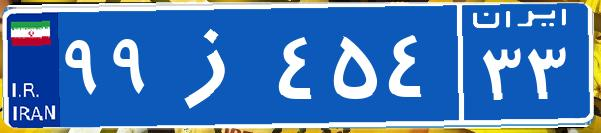3: (475, 38, 525, 113), (525, 38, 570, 115)
4: (385, 28, 445, 110), (273, 28, 330, 110)
5: (330, 28, 385, 110)
9: (57, 26, 110, 107), (110, 28, 158, 105)
ز: (158, 15, 273, 115)
